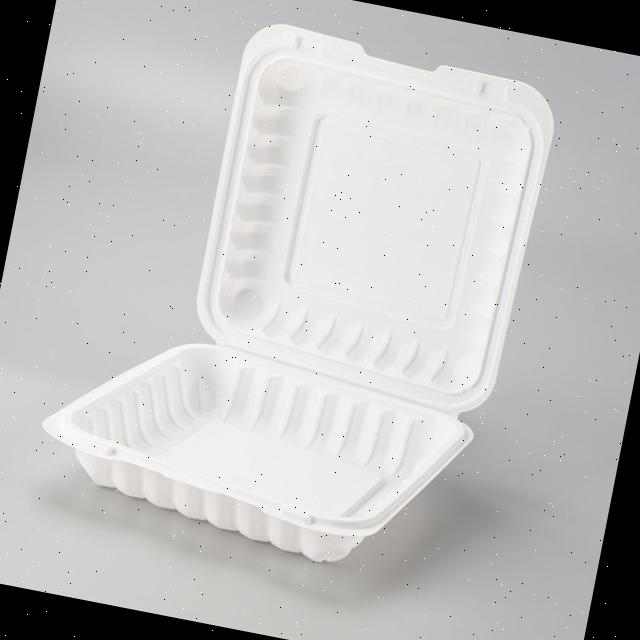styrofoam: (25, 0, 566, 591)
